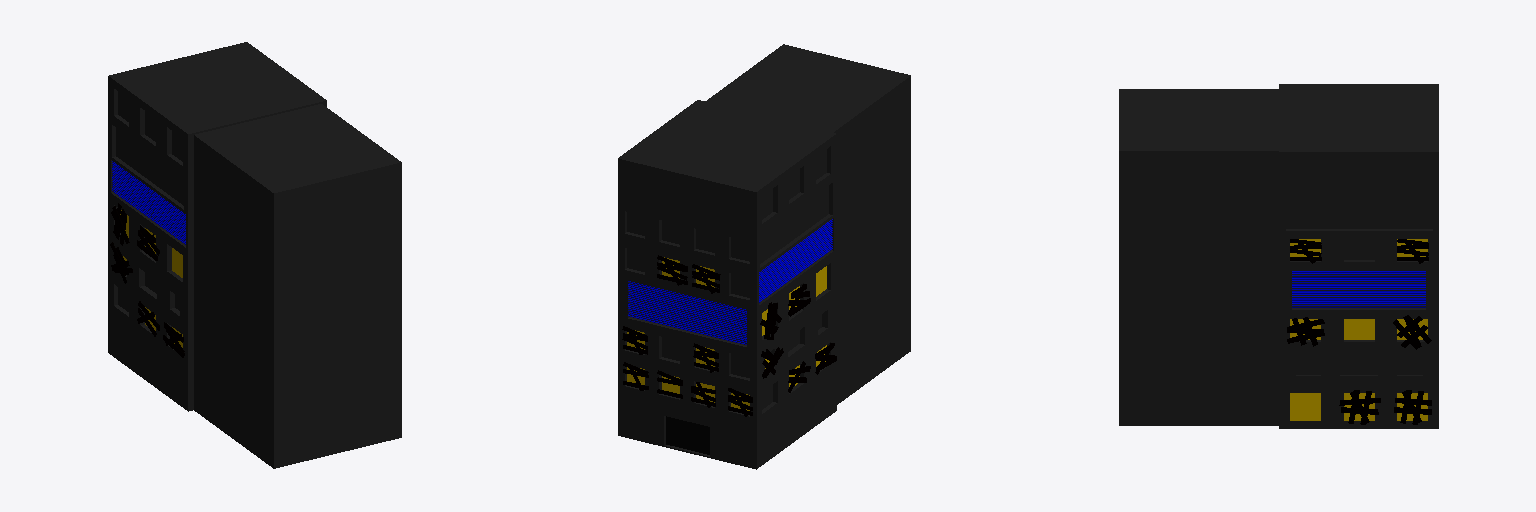
File: Boarded-Tall-Building.obj
The picture shows the model from 3 angles: view 1: azimuth 30°, elevation 25°; view 2: azimuth 150°, elevation 25°; view 3: azimuth 270°, elevation 25°; orthographic projection.
Parts seen in each view (by area): view 1: Cube.053_Cube.089, Cube.052_Cube.088, Vert.258_Vert.270; view 2: Cube.052_Cube.088, Cube.053_Cube.089, Vert.256_Vert.268, Vert.258_Vert.270, Plane.038_Plane.060; view 3: Cube.053_Cube.089, Cube.052_Cube.088, Vert.260_Vert.272, Cube.056_Cube.092, Cube.057_Cube.093, Cube.054_Cube.090, Cube.055_Cube.091, Plane.044_Plane.068, Plane.045_Plane.069.
Part boxes in pixels (left/top/right/bottom): Cube.053_Cube.089: left=194, top=104, right=401, bottom=468; Cube.052_Cube.088: left=108, top=42, right=326, bottom=411; Vert.258_Vert.270: left=112, top=161, right=185, bottom=244; Cube.052_Cube.088: left=618, top=100, right=836, bottom=469; Cube.053_Cube.089: left=705, top=44, right=910, bottom=404; Vert.256_Vert.268: left=628, top=281, right=746, bottom=344; Vert.258_Vert.270: left=759, top=219, right=832, bottom=302; Plane.038_Plane.060: left=657, top=255, right=687, bottom=285; Cube.053_Cube.089: left=1119, top=89, right=1278, bottom=425; Cube.052_Cube.088: left=1279, top=84, right=1438, bottom=428; Vert.260_Vert.272: left=1292, top=271, right=1425, bottom=307; Cube.056_Cube.092: left=1339, top=390, right=1380, bottom=424; Cube.057_Cube.093: left=1394, top=390, right=1431, bottom=424; Cube.054_Cube.090: left=1287, top=317, right=1324, bottom=346; Cube.055_Cube.091: left=1393, top=315, right=1431, bottom=349; Plane.044_Plane.068: left=1397, top=239, right=1428, bottom=263; Plane.045_Plane.069: left=1290, top=239, right=1321, bottom=263.
Bounding box in the file's own units: 12.5 × 22.9 × 24.15.